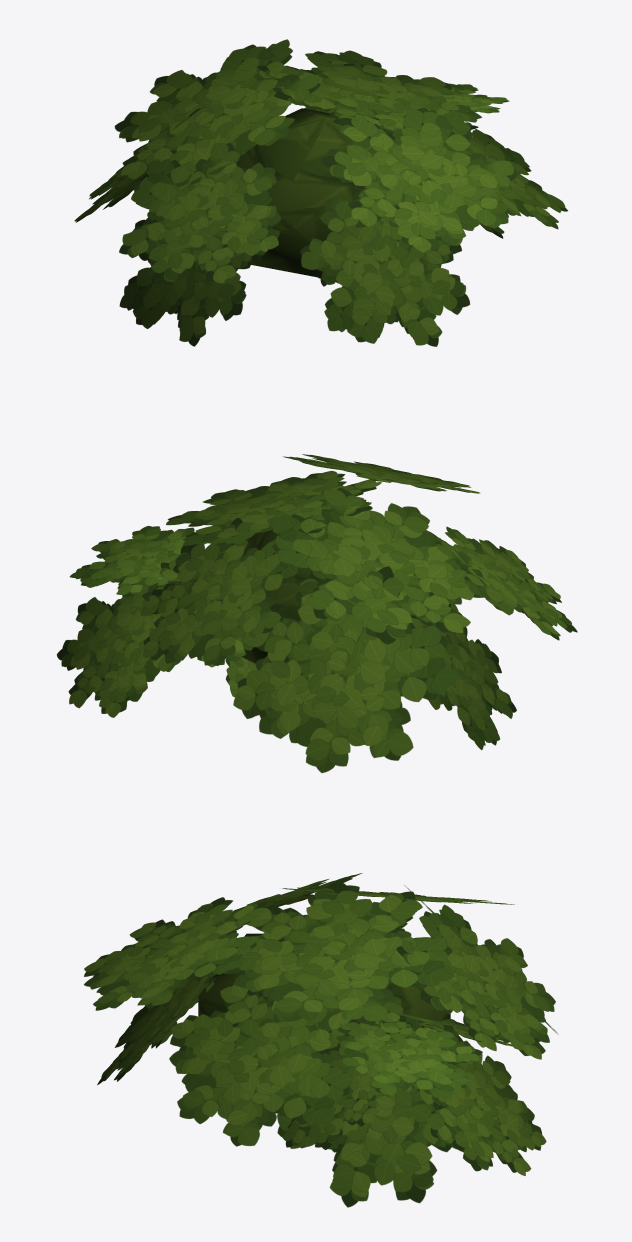
Rendered from bush3.glb.
3 renders of one model, top to bottom at view 1: azimuth 30°, elevation 25°; view 2: azimuth 150°, elevation 25°; view 3: azimuth 270°, elevation 25°, orthographic. The views are drawn at different scales.
Parts seen in each view (by area): view 1: Bush; view 2: Bush; view 3: Bush.
Part boxes in pixels (left/top/right/bottom): Bush: left=74, top=39, right=567, bottom=346; Bush: left=56, top=454, right=577, bottom=772; Bush: left=84, top=873, right=558, bottom=1207.
Bounding box in the file's own units: 3.62 × 2.02 × 3.77.
Materials: 1 (1 with a texture image).
